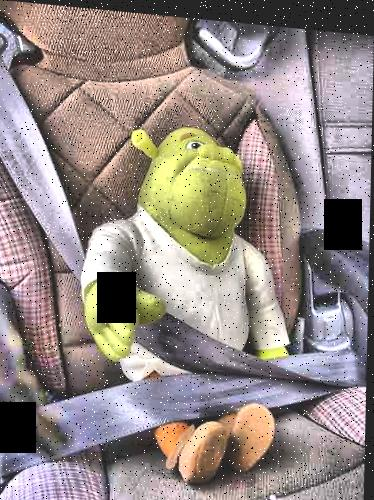seatbelt: (4, 65, 358, 463)
